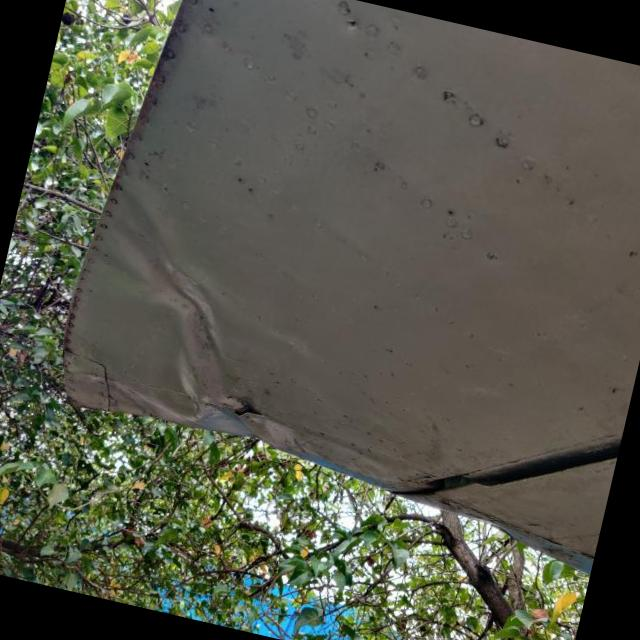Crack: (234, 399, 259, 416)
Dent: (64, 144, 242, 423), (63, 325, 203, 424)
